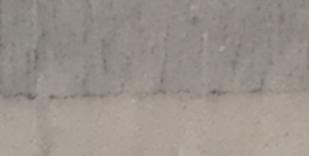fissura: (8, 76, 286, 103)
